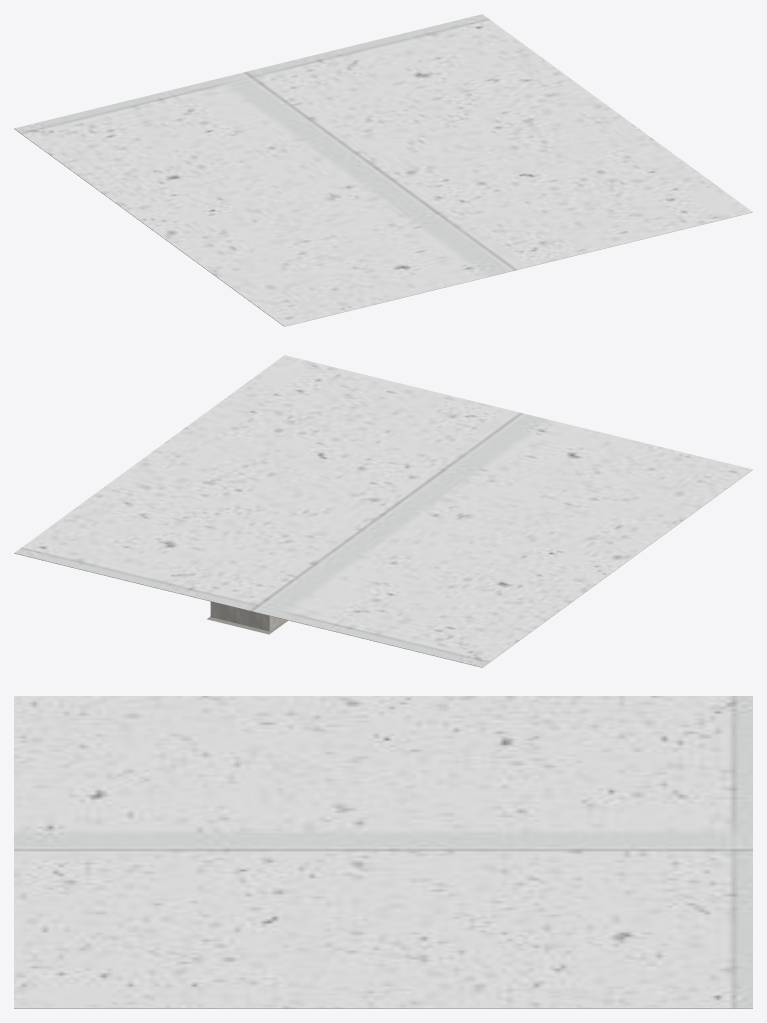
File: Textured GGJ Mask plz god.fbx
The picture shows the model from 3 angles, top to bottom: view 1: azimuth 30°, elevation 25°; view 2: azimuth 150°, elevation 25°; view 3: azimuth 270°, elevation 25°; orthographic projection. The views are drawn at different scales.
Parts seen in each view (by area): view 1: Roof; view 2: Roof, Int_X_Wall_15; view 3: Roof.
Part boxes in pixels (x1,y1,x2,y2): Roof: (14, 14, 752, 326); Roof: (14, 355, 752, 667); Int_X_Wall_15: (210, 601, 269, 631); Roof: (14, 696, 752, 1008).
Size of the model in its own units: 74.73 by 3.07 by 74.73.
30 materials, 12 textured.
